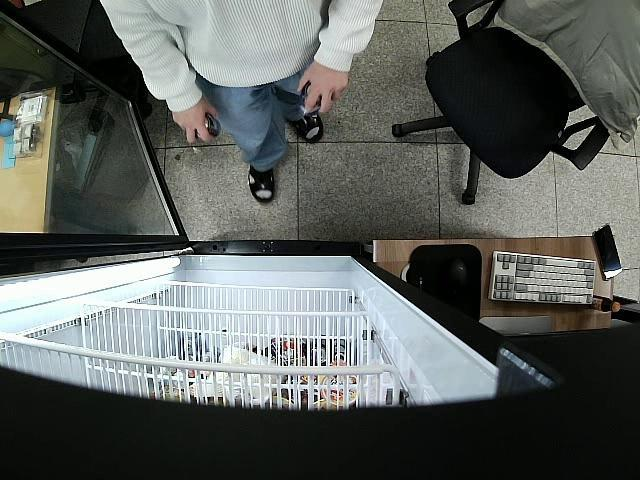14_welchsGrape: (294, 80, 330, 119), (192, 112, 222, 143)
